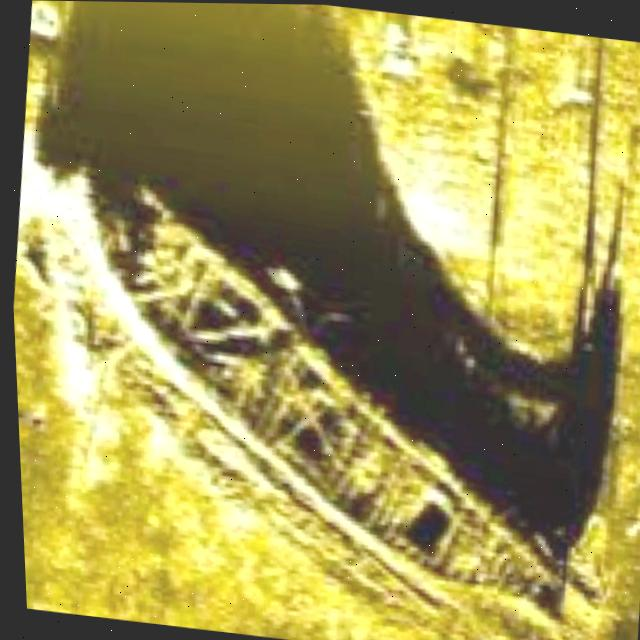shipwreck: (51, 170, 630, 640)
